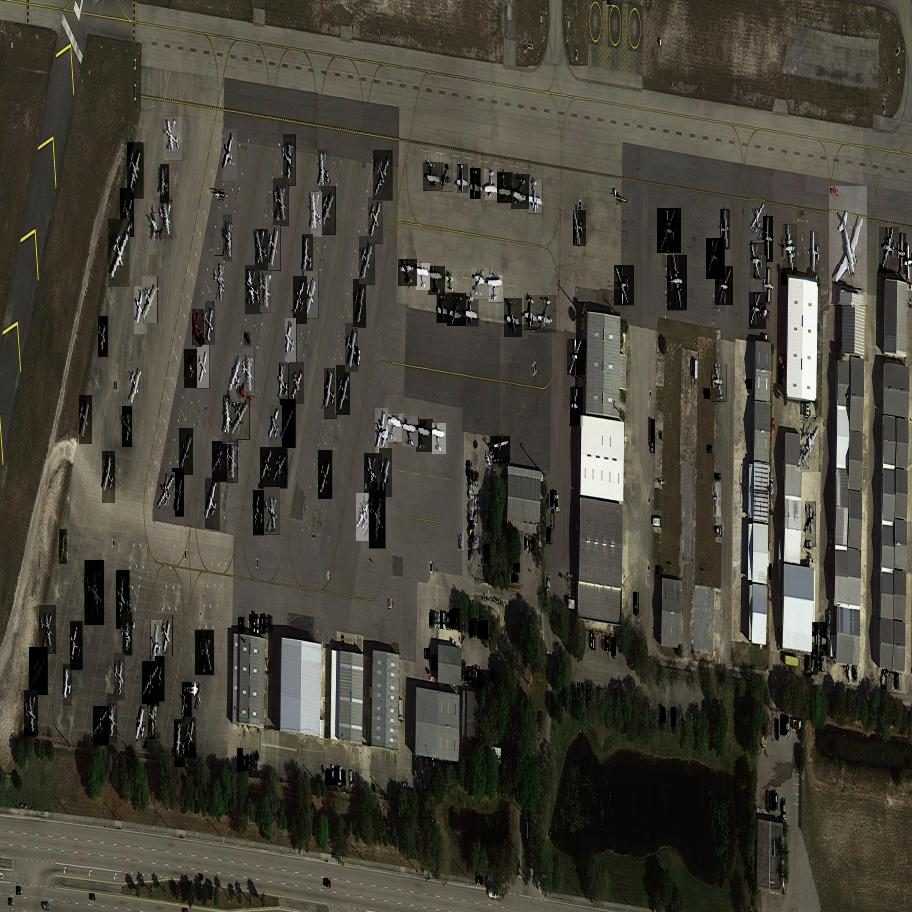large-vehicle: (652, 420, 656, 453), (489, 889, 502, 899), (652, 517, 661, 527)
plane: (809, 186, 887, 305), (101, 219, 138, 287), (793, 417, 829, 473), (350, 494, 382, 541), (23, 648, 55, 695), (123, 142, 149, 198), (367, 483, 389, 548), (370, 150, 398, 201), (274, 400, 303, 448), (227, 394, 257, 440), (152, 472, 181, 519), (743, 198, 773, 242), (85, 560, 105, 626), (136, 661, 165, 706), (316, 186, 342, 234), (225, 353, 250, 402), (137, 276, 163, 323), (201, 478, 224, 530), (314, 450, 338, 499), (267, 447, 295, 489), (219, 129, 242, 180), (667, 254, 687, 312), (657, 208, 682, 254), (356, 237, 380, 284), (333, 365, 354, 415), (89, 706, 115, 745), (176, 429, 198, 475), (125, 362, 147, 408), (290, 276, 311, 324), (879, 228, 901, 273), (302, 271, 323, 318), (209, 441, 233, 482), (196, 628, 216, 677), (117, 188, 137, 237), (178, 349, 203, 388), (372, 408, 391, 459), (286, 363, 309, 404), (535, 295, 559, 334), (366, 197, 386, 243), (377, 448, 395, 497), (68, 621, 86, 670), (39, 605, 57, 654), (263, 486, 281, 535), (614, 265, 635, 307), (148, 199, 164, 254), (100, 452, 117, 503), (245, 264, 262, 315), (78, 395, 96, 443), (266, 406, 287, 447), (257, 447, 278, 488), (364, 452, 382, 499), (351, 280, 369, 327), (343, 323, 360, 372), (164, 116, 182, 162), (195, 345, 214, 388), (782, 223, 798, 274), (132, 286, 149, 334), (266, 222, 283, 270), (323, 368, 339, 418), (715, 266, 735, 306), (706, 239, 726, 279), (504, 297, 523, 339), (510, 174, 532, 209), (568, 339, 588, 377), (274, 178, 290, 225), (134, 705, 151, 749), (812, 622, 827, 671), (749, 293, 769, 329), (117, 570, 129, 629), (150, 621, 164, 671), (490, 433, 511, 466), (471, 269, 493, 300), (284, 318, 299, 363), (447, 294, 468, 326), (243, 348, 257, 396), (25, 689, 39, 737), (750, 242, 767, 281), (171, 469, 185, 516), (161, 615, 176, 657), (385, 414, 406, 444), (252, 490, 266, 535), (424, 160, 443, 193), (712, 363, 728, 402), (160, 196, 174, 240), (416, 420, 435, 452), (256, 228, 270, 271), (398, 259, 418, 289), (283, 135, 295, 185), (428, 264, 446, 297), (302, 234, 314, 283), (183, 718, 198, 757), (205, 301, 218, 345), (319, 149, 331, 196), (224, 396, 236, 443), (402, 415, 419, 448), (310, 192, 322, 238), (214, 256, 225, 306), (570, 387, 584, 426), (498, 171, 514, 204), (574, 210, 588, 247), (174, 720, 185, 767), (260, 265, 271, 312), (528, 180, 543, 214), (763, 216, 774, 262), (115, 654, 126, 700), (227, 433, 237, 481), (439, 163, 455, 192), (524, 296, 538, 329), (63, 664, 74, 706), (223, 215, 233, 261), (192, 309, 205, 344), (433, 423, 447, 455), (437, 293, 451, 324), (485, 170, 499, 201), (107, 695, 116, 743), (416, 263, 431, 291), (155, 656, 164, 701), (489, 276, 504, 303), (279, 363, 288, 408), (466, 296, 479, 327), (720, 209, 730, 249), (122, 407, 132, 447), (182, 682, 191, 726), (806, 503, 815, 546), (123, 612, 132, 655), (98, 317, 107, 356), (764, 267, 773, 305), (160, 165, 169, 202), (811, 233, 819, 274), (898, 233, 906, 274), (713, 482, 722, 517), (457, 165, 468, 193), (59, 530, 68, 564), (446, 268, 458, 293), (470, 169, 480, 199), (149, 695, 155, 739)
ship: (747, 380, 751, 389)
small-vehicle: (452, 608, 461, 631), (483, 452, 495, 469), (249, 614, 259, 634), (801, 449, 810, 470), (777, 354, 788, 371), (466, 546, 477, 563), (467, 521, 477, 539), (473, 666, 481, 688), (811, 653, 819, 675), (449, 610, 458, 629), (237, 749, 244, 772), (849, 666, 859, 682), (780, 715, 788, 735), (769, 478, 776, 499), (778, 273, 790, 285), (468, 497, 477, 513), (482, 545, 490, 563), (846, 664, 853, 684), (554, 495, 561, 515), (472, 534, 482, 548), (821, 655, 829, 672), (780, 800, 788, 817), (477, 622, 485, 639), (481, 620, 488, 639), (805, 655, 811, 677), (242, 333, 253, 345), (193, 335, 204, 347), (547, 528, 555, 544), (445, 614, 453, 630), (432, 614, 440, 630), (882, 670, 889, 688), (471, 666, 478, 684), (237, 385, 247, 397), (399, 700, 405, 720), (261, 614, 267, 634), (550, 490, 557, 507), (469, 619, 475, 638), (239, 617, 246, 633), (254, 618, 261, 634), (612, 638, 618, 656), (459, 533, 465, 551), (634, 593, 639, 614), (672, 707, 677, 727), (471, 511, 480, 522), (601, 635, 607, 651), (587, 685, 593, 701), (431, 655, 437, 671), (462, 661, 467, 680), (338, 767, 343, 786), (41, 902, 51, 911), (894, 674, 900, 689), (890, 674, 896, 689), (350, 770, 355, 788), (472, 619, 477, 636), (465, 667, 470, 684), (268, 616, 273, 633), (715, 525, 722, 537), (247, 757, 253, 771), (326, 772, 332, 786), (341, 771, 347, 785), (778, 364, 782, 384), (513, 564, 521, 574), (529, 537, 534, 553), (526, 535, 531, 551), (331, 765, 335, 784), (763, 309, 771, 318), (481, 670, 485, 688), (774, 791, 778, 809), (323, 878, 330, 888), (605, 636, 610, 650), (259, 618, 264, 632), (490, 444, 494, 461), (255, 750, 258, 771), (832, 190, 837, 202), (705, 389, 711, 399), (512, 573, 518, 583), (430, 613, 434, 627), (657, 566, 663, 575), (487, 511, 490, 529), (551, 511, 555, 524), (660, 707, 663, 724), (470, 509, 473, 526), (474, 494, 477, 511), (444, 613, 447, 630), (475, 470, 478, 487), (89, 894, 95, 902), (466, 460, 469, 476), (469, 470, 472, 485), (243, 756, 246, 771), (786, 716, 788, 737), (266, 617, 269, 631), (490, 671, 495, 679), (425, 649, 429, 659), (663, 709, 666, 722), (767, 792, 769, 810), (591, 631, 593, 649), (714, 474, 721, 479), (707, 446, 712, 453), (776, 720, 778, 737), (441, 612, 443, 629), (769, 587, 772, 598), (593, 634, 595, 650), (547, 575, 549, 591), (470, 483, 472, 499), (388, 600, 392, 608), (772, 793, 774, 808), (477, 877, 482, 883), (17, 887, 21, 894), (578, 682, 580, 696), (807, 542, 812, 547), (906, 300, 911, 305), (437, 616, 439, 627), (470, 668, 471, 685), (770, 564, 771, 580), (830, 536, 831, 552), (9, 898, 12, 903), (335, 770, 336, 785), (773, 419, 774, 433), (486, 671, 486, 686), (342, 645, 342, 648)
